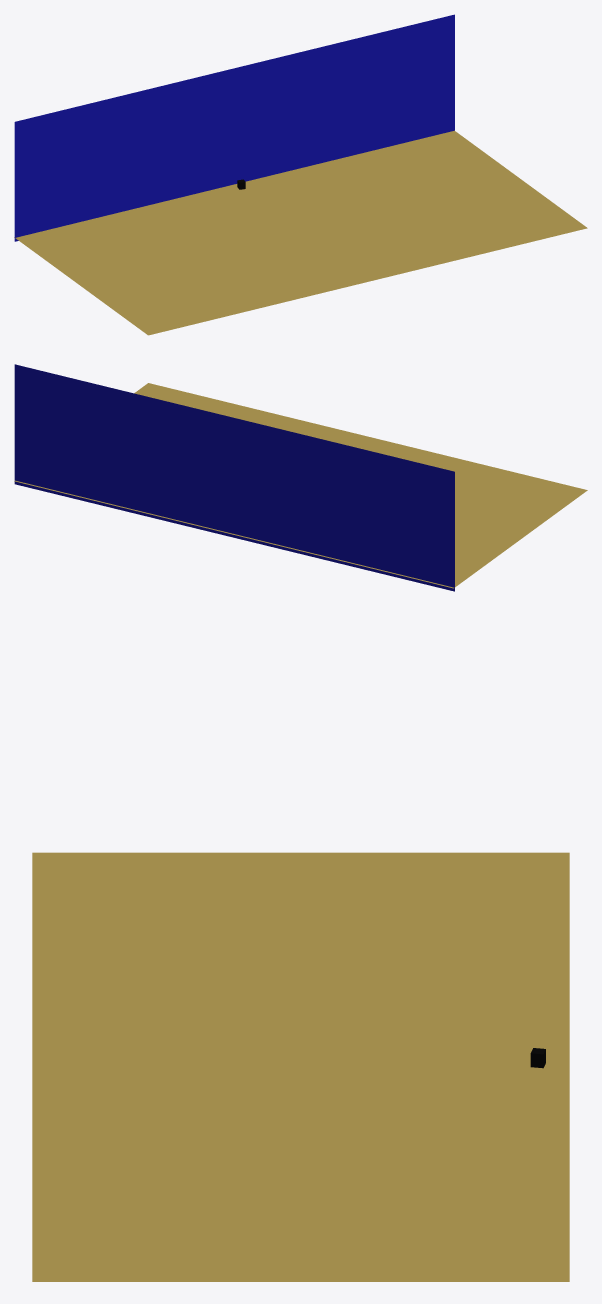
File: room.obj
3 views of the same model, one above another, from view 1: azimuth 30°, elevation 25°; view 2: azimuth 150°, elevation 25°; view 3: azimuth 270°, elevation 25° (orthographic). The views are drawn at different scales.
Visible parts, largest first — view 1: mywall1, mywall2; view 2: mywall2, mywall1; view 3: mywall1.
Boxes of the visible parts, x1,y1,x2,y2 form: mywall1: [14, 130, 587, 335]; mywall2: [14, 14, 454, 241]; mywall2: [14, 364, 454, 591]; mywall1: [14, 383, 587, 588]; mywall1: [32, 852, 569, 1281].
Size of the model in its own units: 39.77 by 10.35 by 21.01.
